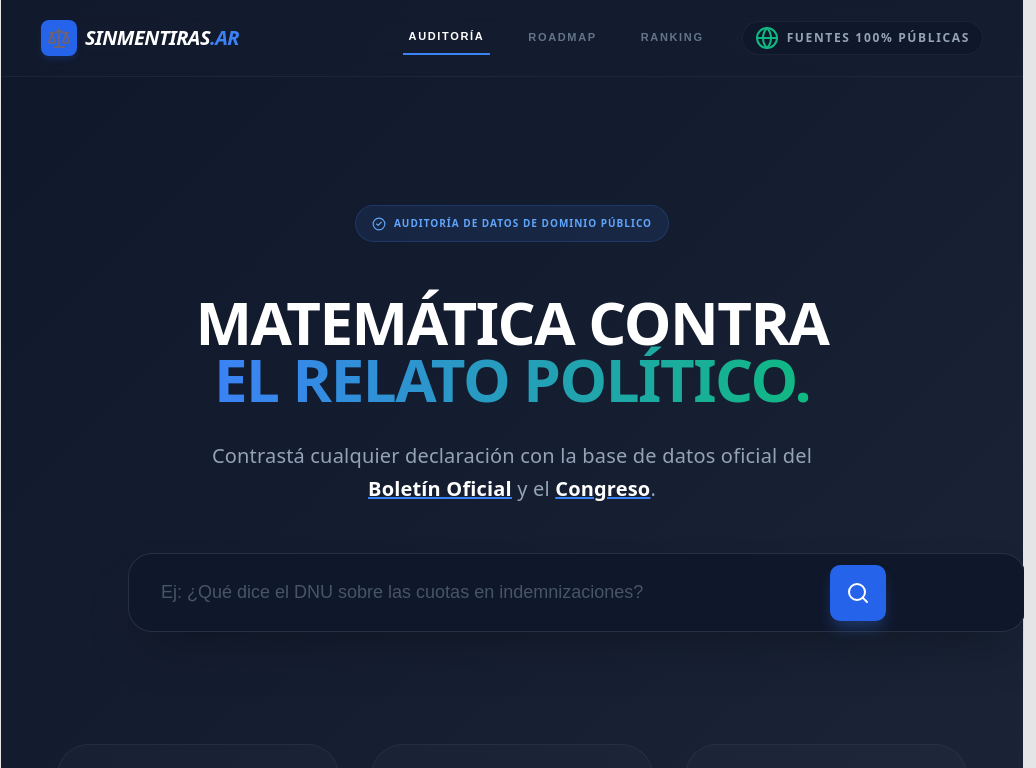
App › navega a ranking desde el nav
The width and height of the screenshot is (1036, 768).
Click the button "Ranking": point(672, 38) [635,21,710,55]
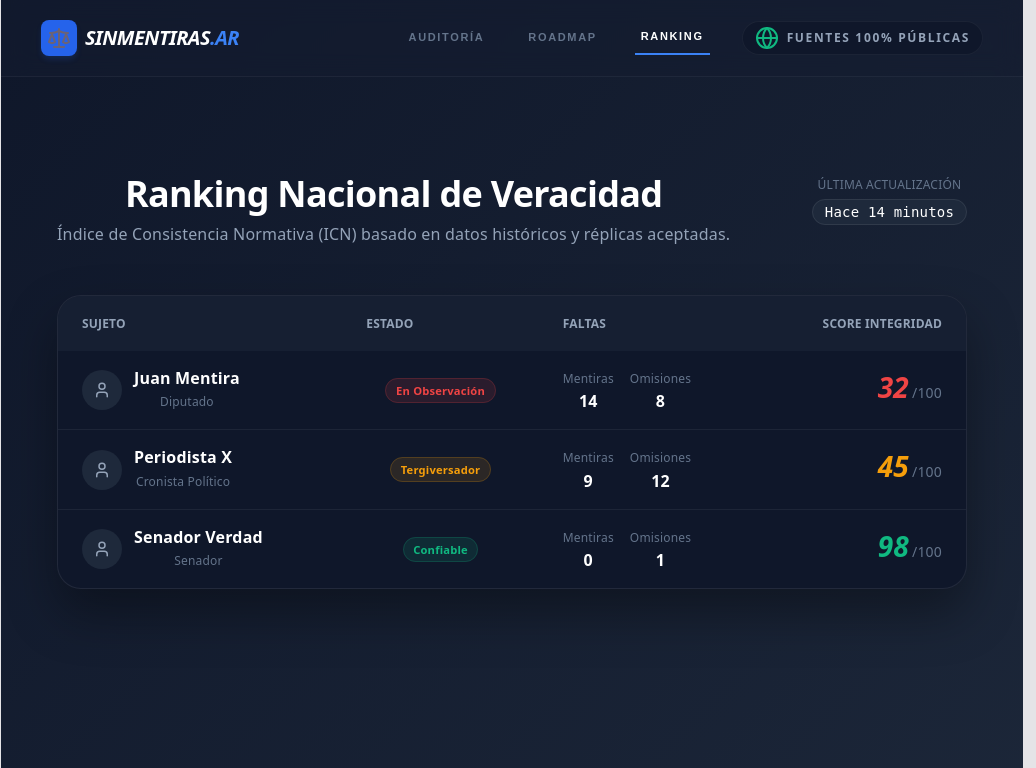
Now the heading "Ranking Nacional de Veracidad" is shown, box [125,169,662,218]
